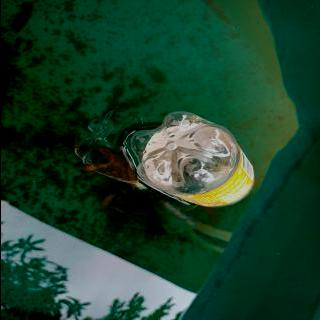bottle: (127, 109, 256, 209)
